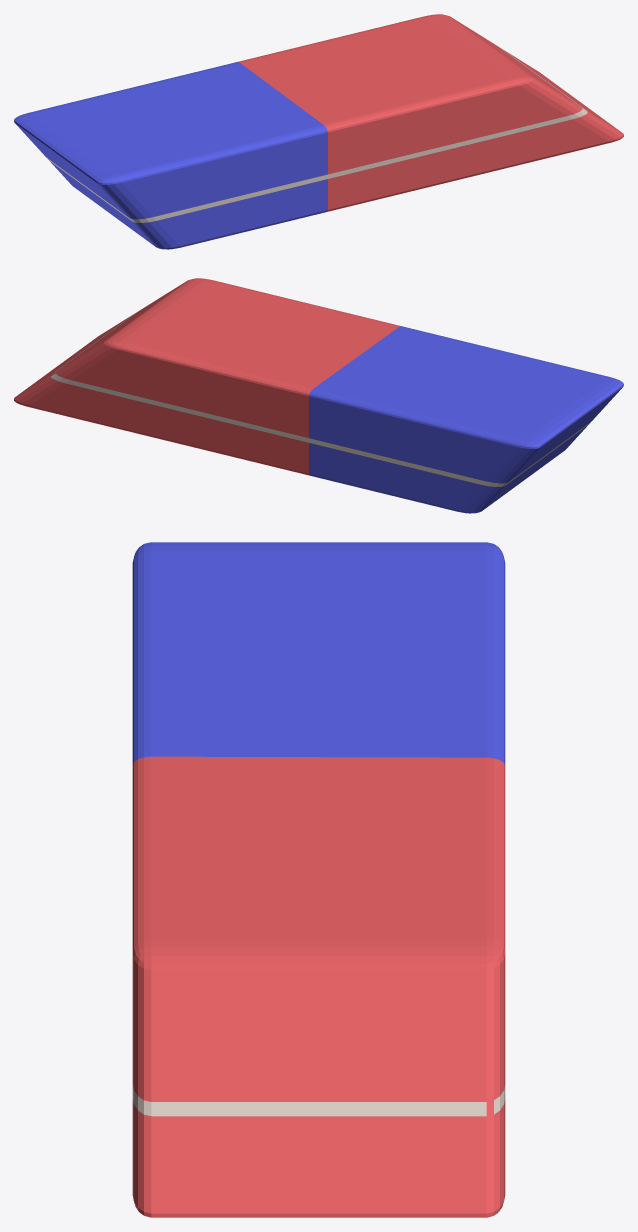
Rendered from eraser-Throw.fbx.
The picture shows the model from 3 angles, top to bottom: view 1: azimuth 30°, elevation 25°; view 2: azimuth 150°, elevation 25°; view 3: azimuth 270°, elevation 25°; orthographic projection. The views are drawn at different scales.
Parts seen in each view (by area): view 1: Cube; view 2: Cube; view 3: Cube.
Part boxes in pixels (left/top/right/bottom): Cube: left=14, top=14, right=623, bottom=249; Cube: left=14, top=278, right=623, bottom=513; Cube: left=132, top=542, right=505, bottom=1217.
Bounding box in the file's own units: 651 × 102 × 200.
